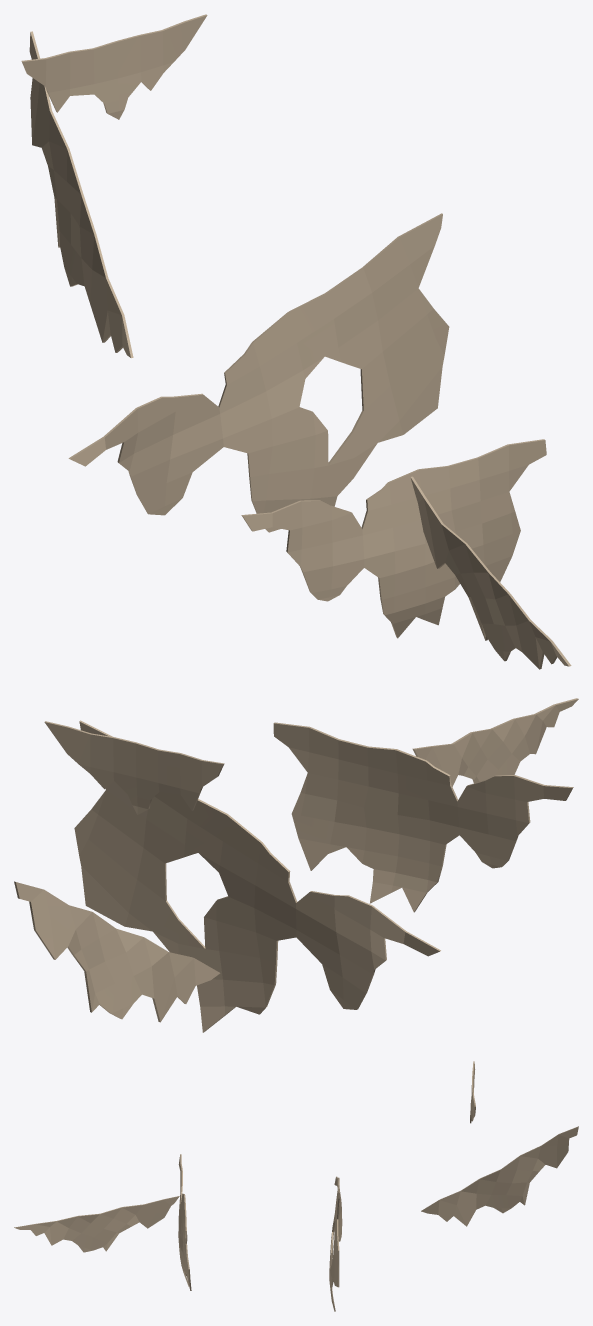
The model's file is SM_Prop_Shipwreck_01_Sails.glb.
3 renders of one model, top to bottom at view 1: azimuth 30°, elevation 25°; view 2: azimuth 150°, elevation 25°; view 3: azimuth 270°, elevation 25°, orthographic. The views are drawn at different scales.
Parts seen in each view (by area): view 1: SM_Prop_Shipwreck_01_Sails; view 2: SM_Prop_Shipwreck_01_Sails; view 3: SM_Prop_Shipwreck_01_Sails.
Part boxes in pixels (<box>): SM_Prop_Shipwreck_01_Sails: <box>21,14,571,669</box>; SM_Prop_Shipwreck_01_Sails: <box>14,698,578,1032</box>; SM_Prop_Shipwreck_01_Sails: <box>14,1061,578,1311</box>.
Bounding box in the file's own units: 0.1343 × 0.1422 × 0.3442.
Materials: 1 (1 with a texture image).
